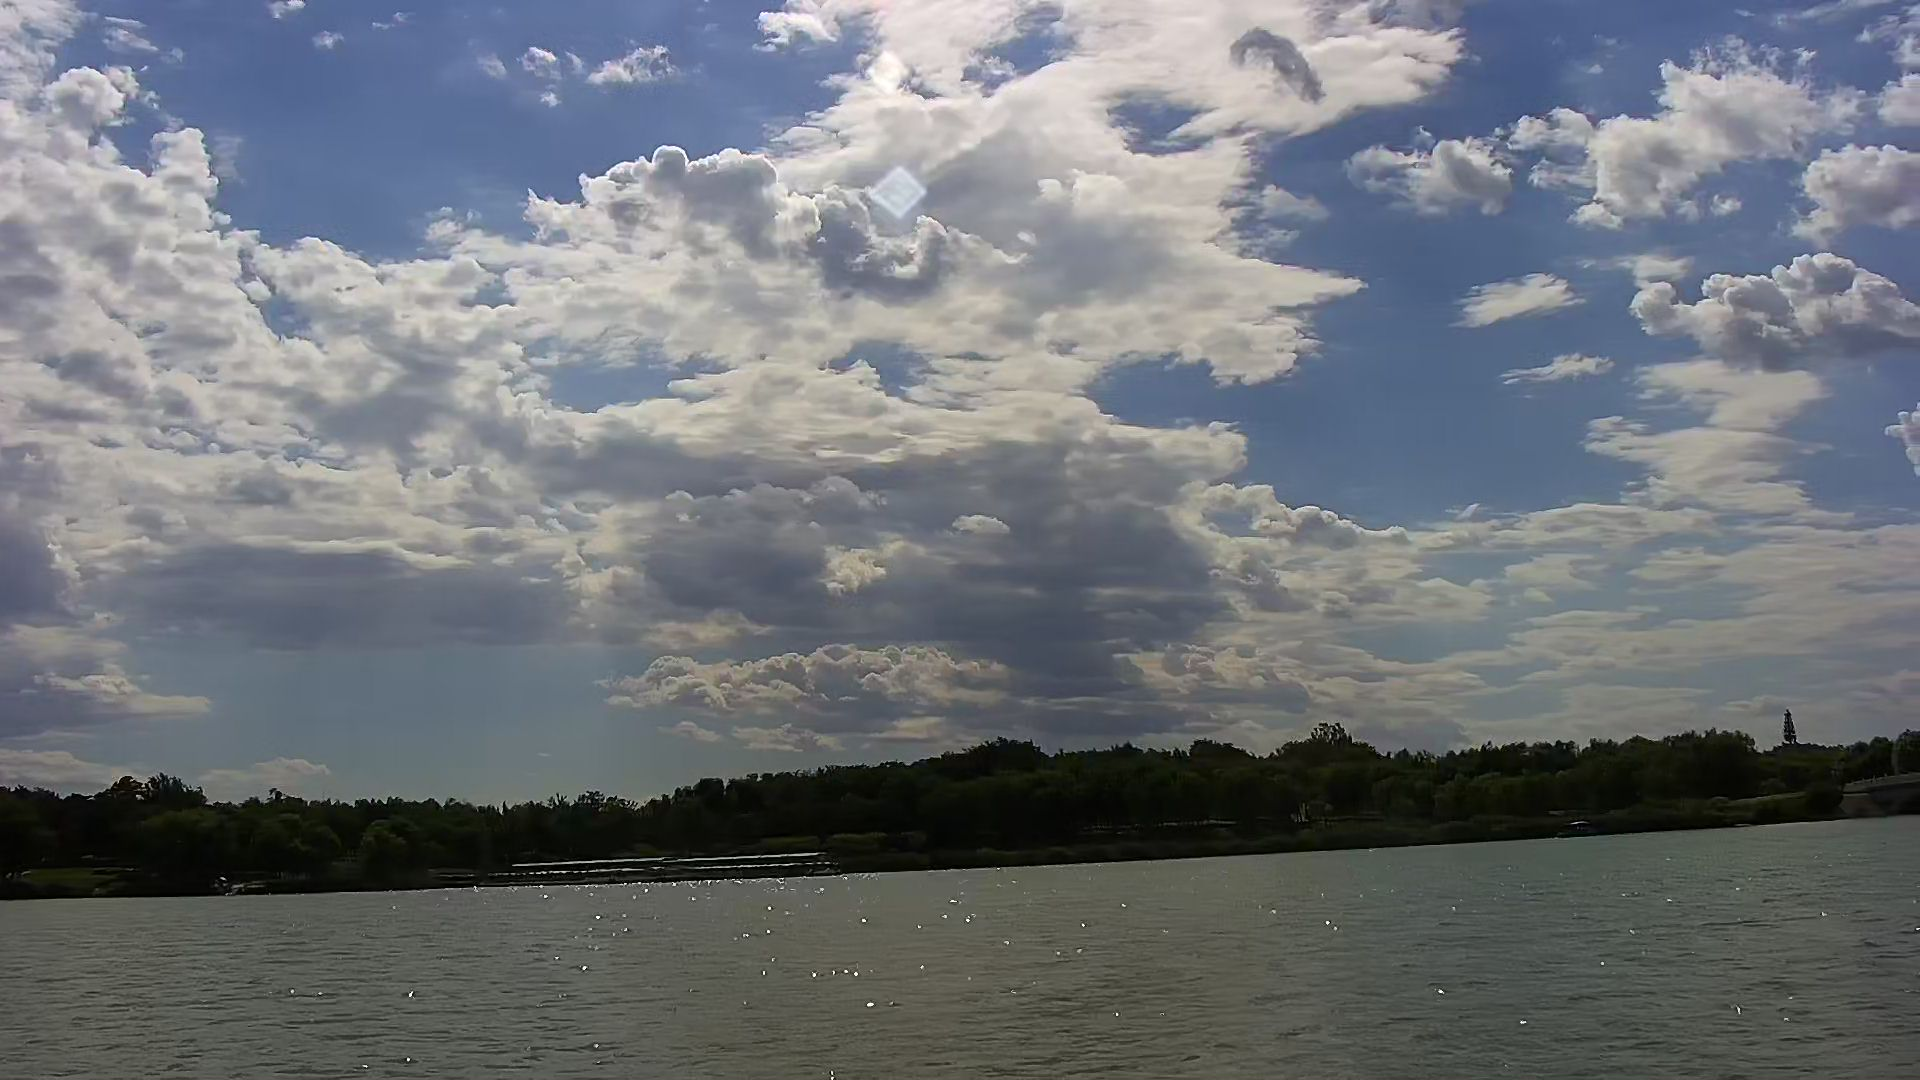harbor: (502, 847, 833, 887)
